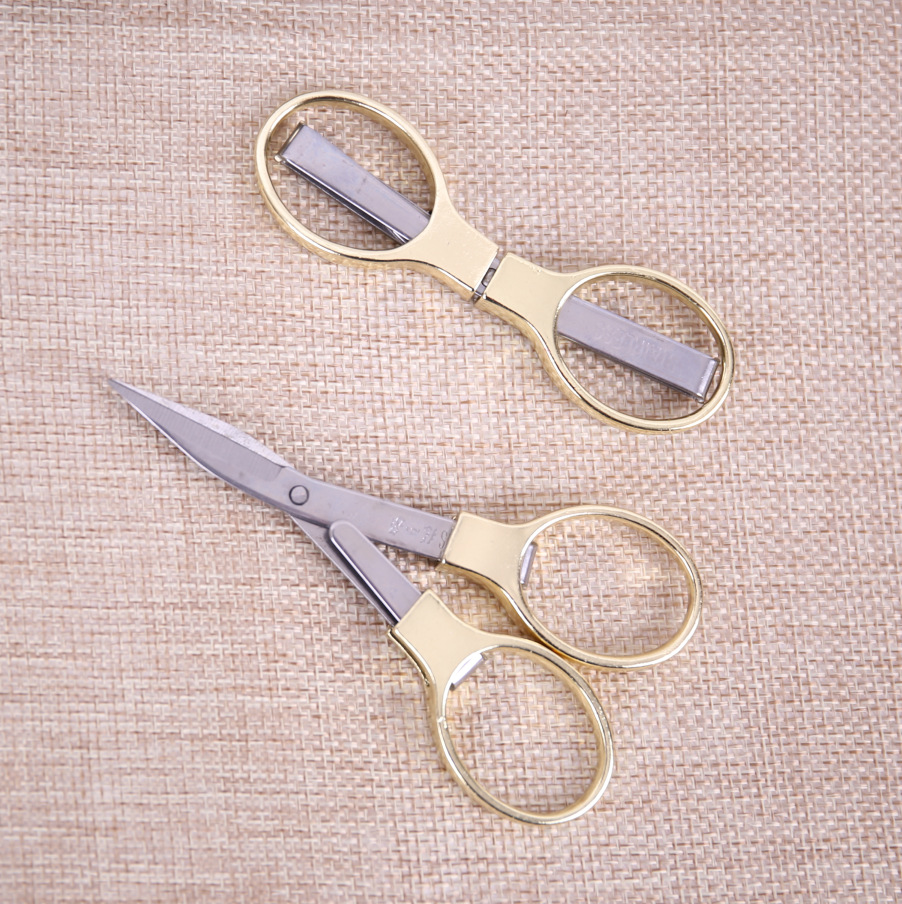scissors: (84, 370, 717, 837)
